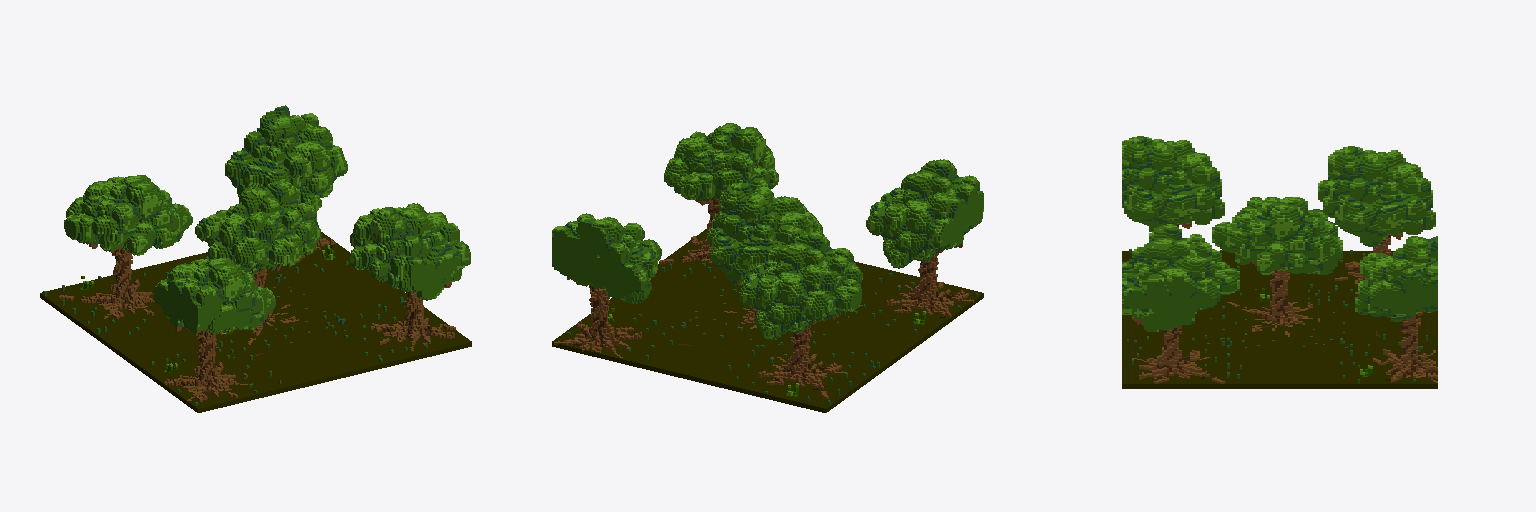
3 views of the same model, side by side, from view 1: azimuth 30°, elevation 25°; view 2: azimuth 150°, elevation 25°; view 3: azimuth 270°, elevation 25° (orthographic).
Size of the model in its own units: 126 by 58 by 126.
Materials: 1 (1 with a texture image).